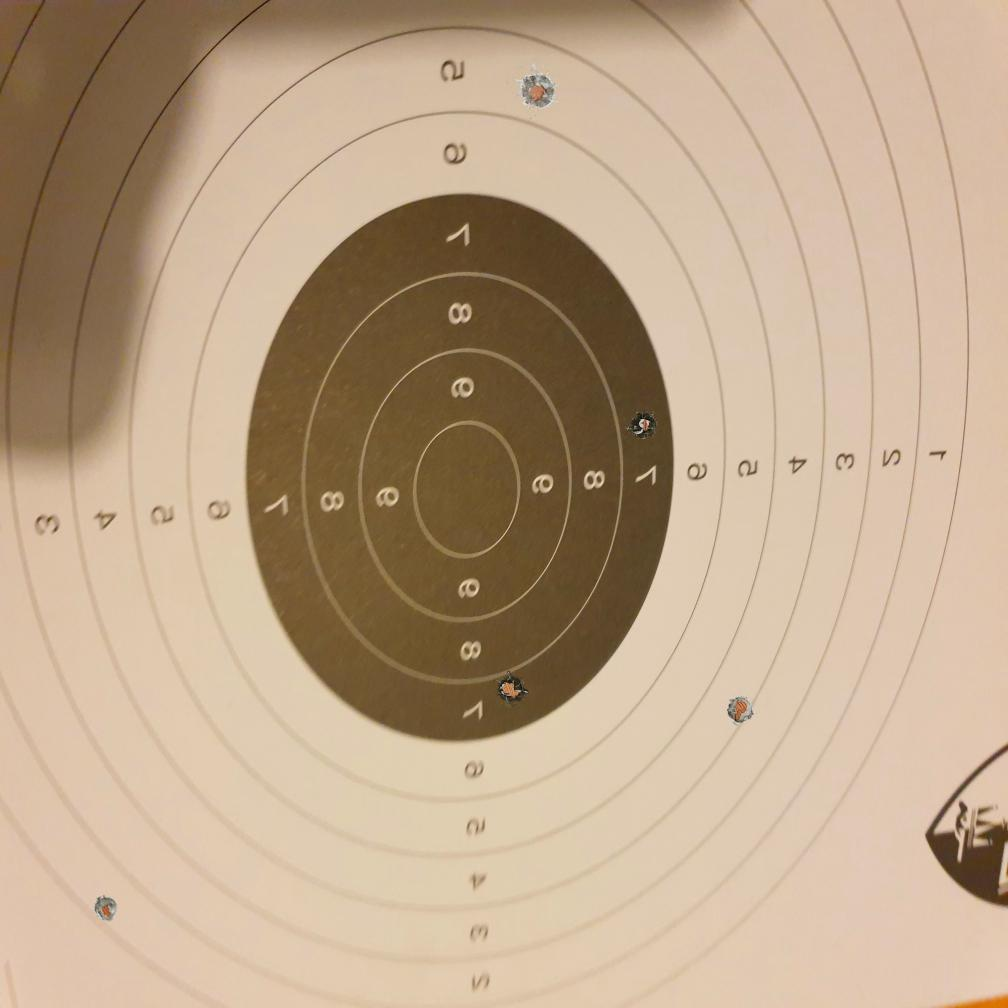1: (87, 888, 121, 929), (92, 894, 119, 924)
4: (725, 692, 755, 729)
5: (512, 61, 562, 112)
7: (493, 671, 530, 709), (623, 408, 660, 440)
Target: (28, 0, 1008, 1005)
black_contour: (244, 184, 675, 743)
